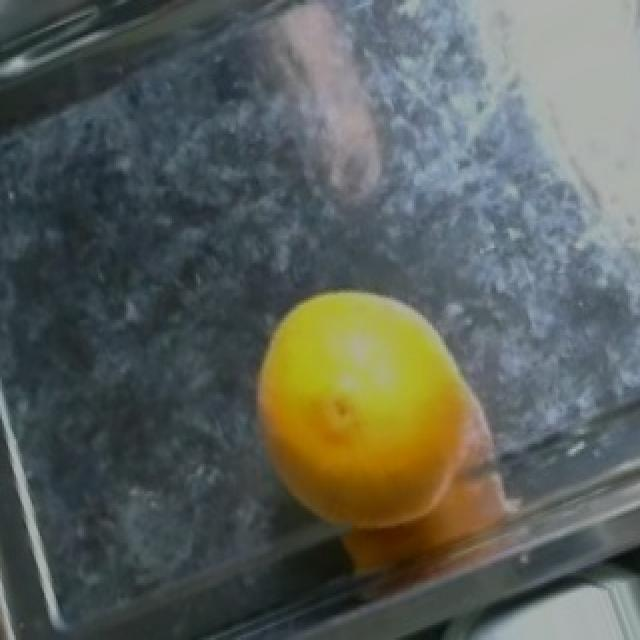Fruit: (242, 273, 546, 610)
